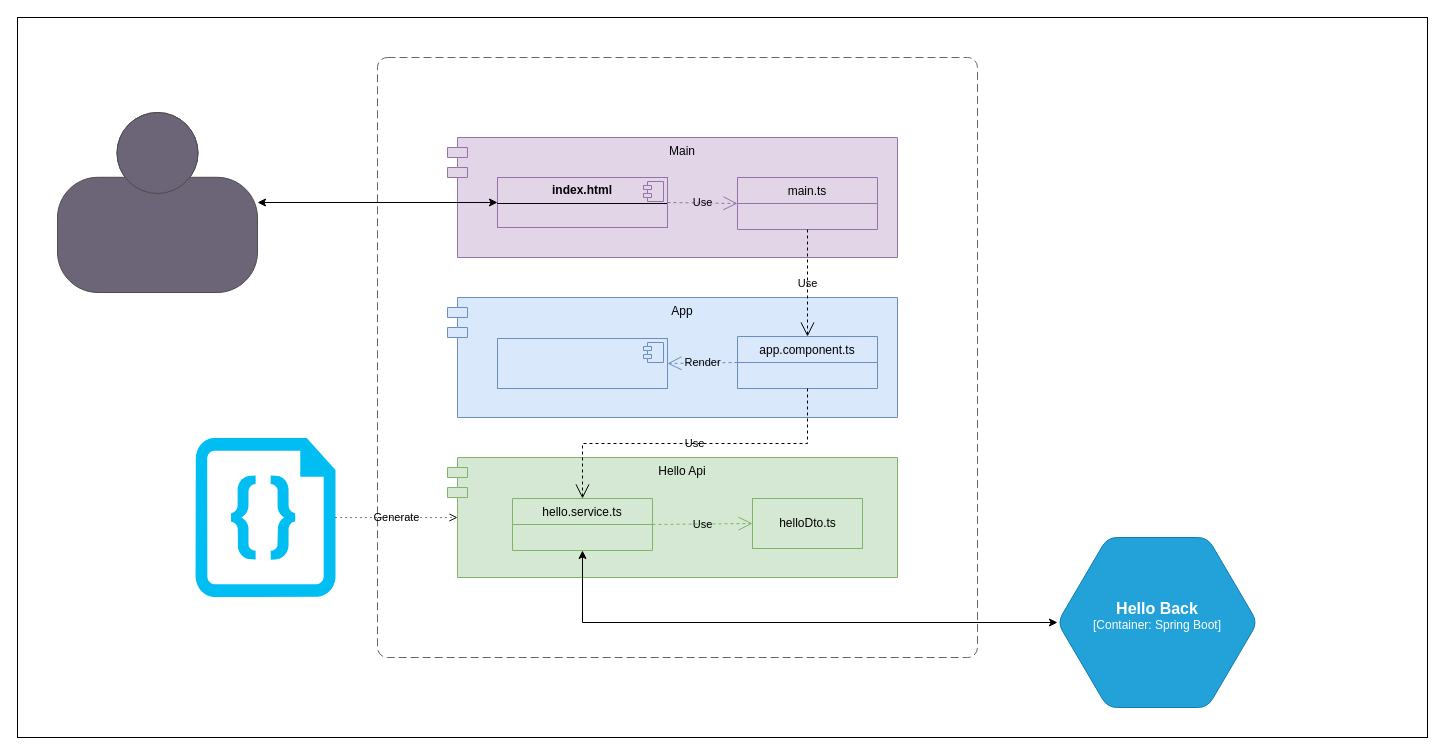
The diagram is 1445 pixels wide and 755 high, and some of its shapes have lost their labels. Here are the shapes that lost their labels. From the top down, the box of each, then its label:
(56, 112, 258, 292): User [Person]
(496, 338, 668, 388): app.component.html
(376, 56, 978, 658): Hello Front [Container]
(195, 438, 335, 596): OpenApi Définition
